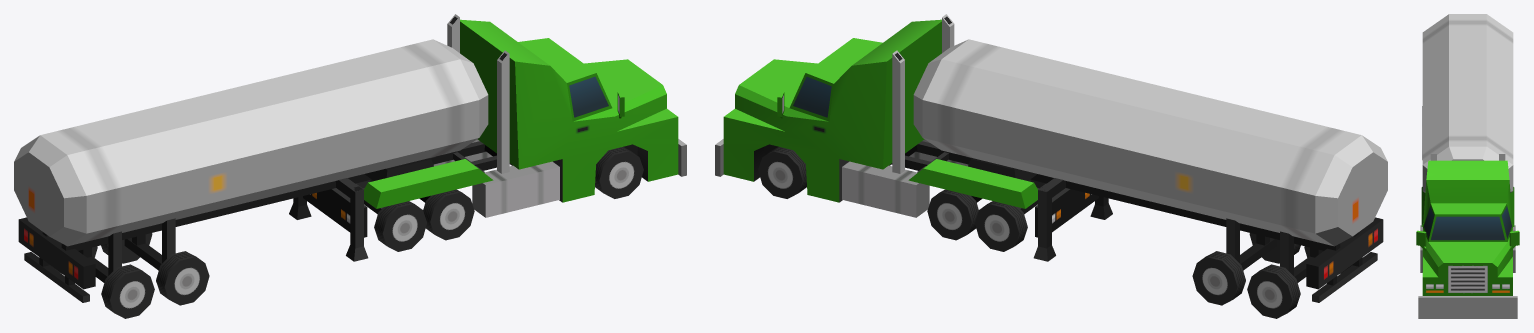
File: Truck_020.glb
3 renders of one model, left to right at view 1: azimuth 30°, elevation 25°; view 2: azimuth 150°, elevation 25°; view 3: azimuth 270°, elevation 25°, orthographic. The views are drawn at different scales.
Parts seen in each view (by area): view 1: Truck_020, wheel_7_Truck_020_Wheel_4R, wheel_9_Truck_020_Wheel_5R, wheel_5_Truck_020_Wheel_3R, wheel_3_Truck_020_Wheel_2R, wheel_1_Truck_020_Wheel_1R; view 2: Truck_020, wheel_6_Truck_020_Wheel_4L, wheel_8_Truck_020_Wheel_5L, wheel_4_Truck_020_Wheel_3L, wheel_2_Truck_020_Wheel_2L, wheel_0_Truck_020_Wheel_1L; view 3: Truck_020.
Boxes of the visible parts, x1,y1,x2,y2 form: Truck_020: (14,14,686,302); wheel_7_Truck_020_Wheel_4R: (156,251,209,305); wheel_9_Truck_020_Wheel_5R: (101,264,154,318); wheel_5_Truck_020_Wheel_3R: (374,201,426,251); wheel_3_Truck_020_Wheel_2R: (423,189,474,240); wheel_1_Truck_020_Wheel_1R: (595,147,643,198); Truck_020: (715,14,1387,302); wheel_6_Truck_020_Wheel_4L: (1192,251,1245,305); wheel_8_Truck_020_Wheel_5L: (1247,264,1300,318); wheel_4_Truck_020_Wheel_3L: (975,201,1027,251); wheel_2_Truck_020_Wheel_2L: (927,189,978,240); wheel_0_Truck_020_Wheel_1L: (758,147,806,198); Truck_020: (1416,14,1519,318).
Bounding box in the file's own units: 9.95 × 2.58 × 2.1.
Materials: 2 (2 with a texture image).
